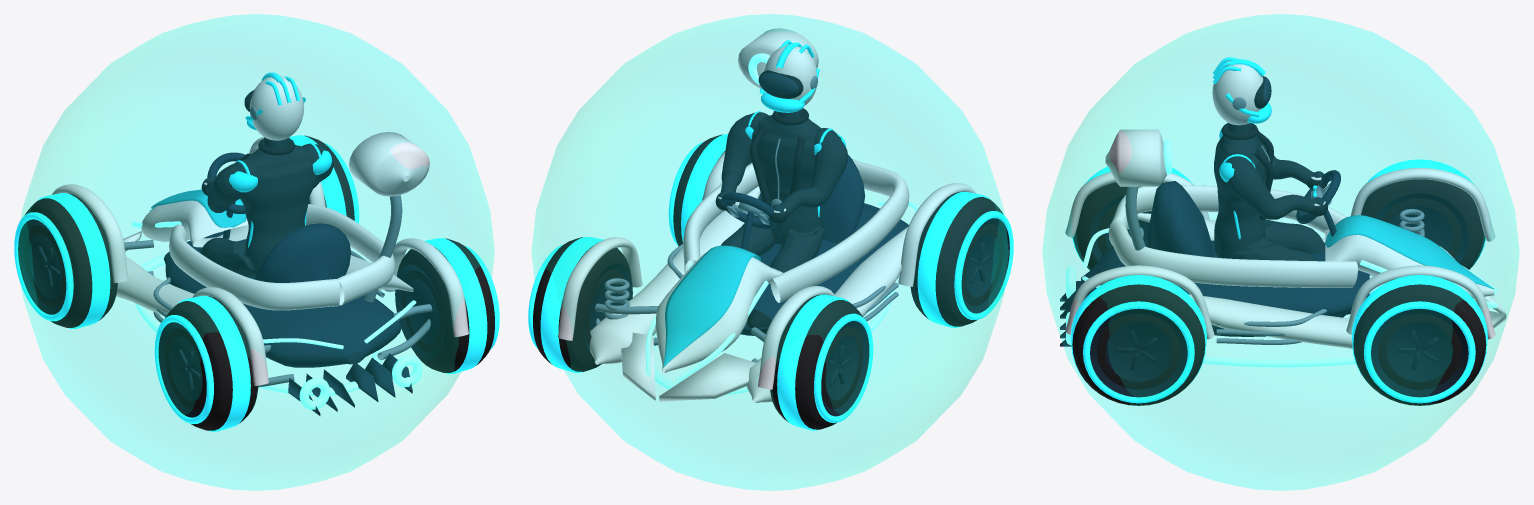
File: animus.glb
3 views of the same model, side by side, from view 1: azimuth 30°, elevation 25°; view 2: azimuth 150°, elevation 25°; view 3: azimuth 270°, elevation 25° (orthographic).
Parts seen in each view (by area): view 1: animus:aegis-shield, animus:coachwork-batch.001, animus:coachwork-batch, animus:torso, animus:rounded-wheel-shell, animus:rounded-wheel-shell.002, animus:rounded-wheel-shell.003, animus:translucent-tire-band.002, animus:translucent-tire-band, animus:translucent-tire-band.003, animus:coachwork-batch.002, animus:helmet-shell (+14 smaller); view 2: animus:aegis-shield, animus:coachwork-batch.001, animus:torso, animus:bonnet-enamel-inlay, animus:coachwork-batch, animus:rounded-wheel-shell, animus:rounded-wheel-shell.002, animus:rounded-wheel-shell.001, animus:translucent-tire-band, animus:translucent-tire-band.002, animus:translucent-tire-band.001, animus:arm-l-mesh (+18 smaller); view 3: animus:aegis-shield, animus:coachwork-batch.001, animus:coachwork-batch, animus:torso, animus:rounded-wheel-shell.001, animus:rounded-wheel-shell.003, animus:recessed-colored-hub.003, animus:recessed-colored-hub.001, animus:rounded-wheel-shell, animus:bonnet-enamel-inlay, animus:arm-r-mesh, animus:coachwork-batch.002 (+12 smaller).
Part boxes in pixels (<box>): animus:aegis-shield: <box>17,14,494,490</box>; animus:coachwork-batch.001: <box>52,132,468,385</box>; animus:coachwork-batch: <box>164,201,412,415</box>; animus:torso: <box>200,137,317,277</box>; animus:rounded-wheel-shell: <box>24,193,117,327</box>; animus:rounded-wheel-shell.002: <box>165,296,258,430</box>; animus:rounded-wheel-shell.003: <box>397,238,494,372</box>; animus:translucent-tire-band.002: <box>177,296,250,431</box>; animus:translucent-tire-band: <box>37,193,110,328</box>; animus:translucent-tire-band.003: <box>424,238,487,374</box>; animus:coachwork-batch.002: <box>124,195,432,387</box>; animus:helmet-shell: <box>249,75,304,140</box>; animus:aegis-shield: <box>531,14,1008,490</box>; animus:coachwork-batch.001: <box>558,28,975,403</box>; animus:torso: <box>721,108,825,283</box>; animus:bonnet-enamel-inlay: <box>663,245,760,366</box>; animus:coachwork-batch: <box>740,154,908,335</box>; animus:rounded-wheel-shell: <box>770,295,862,429</box>; animus:rounded-wheel-shell.002: <box>910,192,1003,326</box>; animus:rounded-wheel-shell.001: <box>533,237,631,371</box>; animus:translucent-tire-band: <box>777,294,850,430</box>; animus:translucent-tire-band.002: <box>917,192,991,327</box>; animus:translucent-tire-band.001: <box>540,237,603,372</box>; animus:arm-l-mesh: <box>772,128,847,215</box>; animus:aegis-shield: <box>1042,14,1519,490</box>; animus:coachwork-batch.001: <box>1065,129,1506,348</box>; animus:coachwork-batch: <box>1060,181,1369,346</box>; animus:torso: <box>1214,123,1325,261</box>; animus:rounded-wheel-shell.001: <box>1353,284,1486,405</box>; animus:rounded-wheel-shell.003: <box>1072,284,1205,405</box>; animus:recessed-colored-hub.003: <box>1090,308,1187,397</box>; animus:recessed-colored-hub.001: <box>1371,308,1468,397</box>; animus:rounded-wheel-shell: <box>1361,179,1485,269</box>; animus:bonnet-enamel-inlay: <box>1325,215,1493,288</box>; animus:arm-r-mesh: <box>1223,152,1324,219</box>; animus:coachwork-batch.002: <box>1125,186,1424,344</box>.
Bounding box in the file's own units: 4.3 × 4.3 × 4.3.
